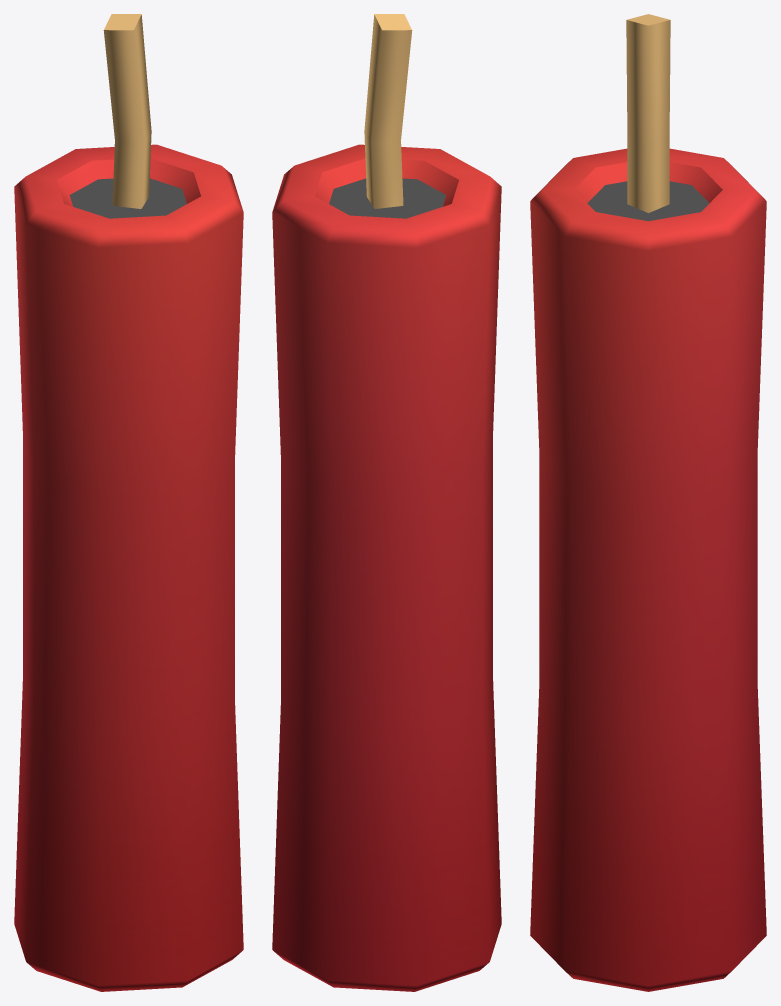
The model's file is dynamite_001.glb.
The picture shows the model from 3 angles, left to right: view 1: azimuth 30°, elevation 25°; view 2: azimuth 150°, elevation 25°; view 3: azimuth 270°, elevation 25°; orthographic projection.
Parts seen in each view (by area): view 1: dynamite_001; view 2: dynamite_001; view 3: dynamite_001.
Part boxes in pixels (x1,y1,x2,y2): dynamite_001: (14,14,243,991); dynamite_001: (272,14,501,991); dynamite_001: (530,14,766,991).
Bounding box in the file's own units: 0.2408 × 1.04 × 0.2408.
1 material, 1 textured.
